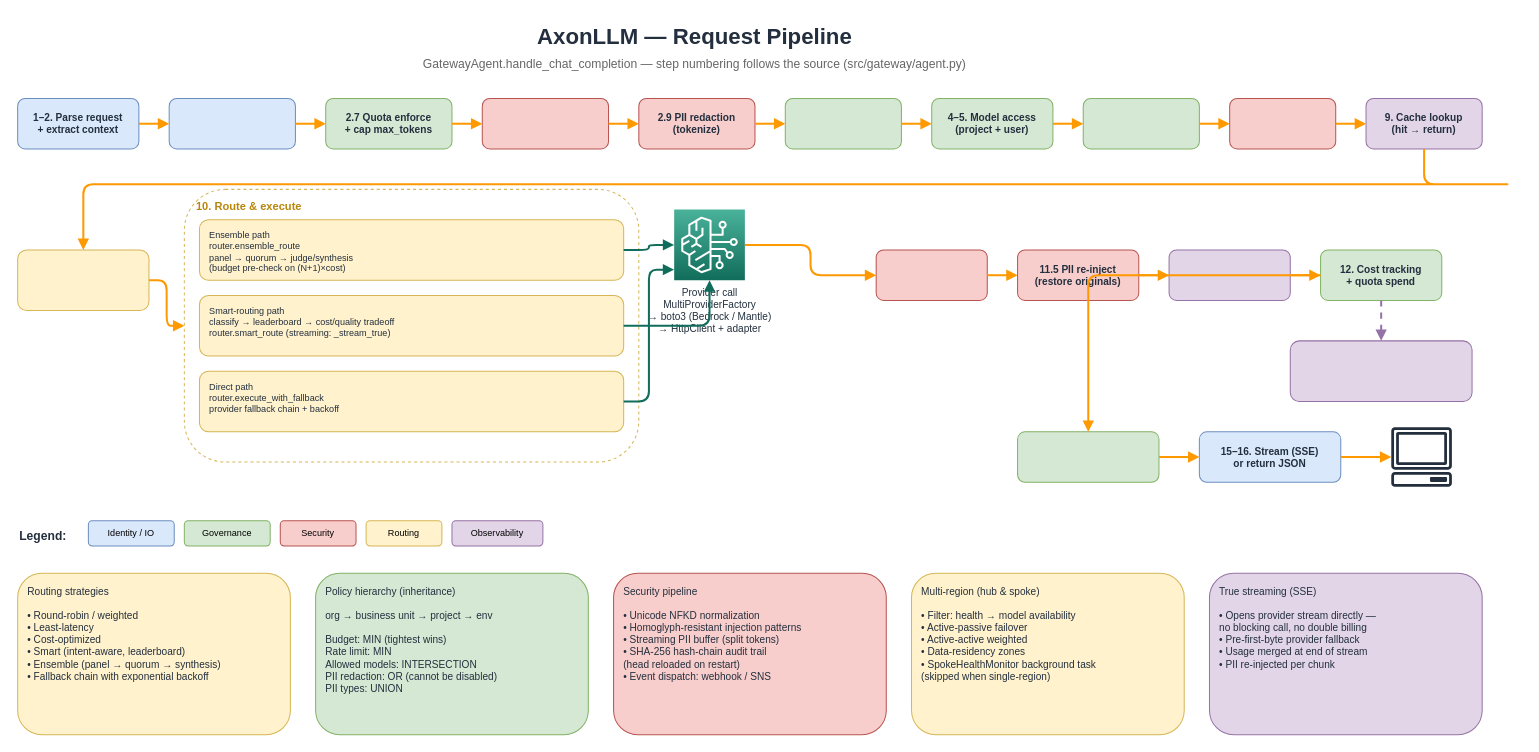
The diagram is 1539 pixels wide and 752 high, and some of its shapes have lost their labels. Each missing label, with the centre of its shape:
"11. Response guardrails" belongs at point 931,274.
"11.6 Audit trail (SHA-256 chain)" belongs at point 1229,274.
"13–14. Budget status + session storage" belongs at point 1088,456.
"2.5 Validate (skipped for smart / ensemble)" belongs at point 231,123.
"2.8 Injection detect (audit + dispatch)" belongs at point 545,123.
"3. Rate limit (sliding window)" belongs at point 842,123.
"6–7. Budget (project + user)" belongs at point 1140,123.
"8. Request guardrails" belongs at point 1282,123.
"9.5 Region route (hub → spoke, data residency)" belongs at point 83,280.
"Client" belongs at point 1421,456.
"Trace export TraceForwarder (Ostiari) OR OTLP span — exactly one per request" belongs at point 1380,370.
